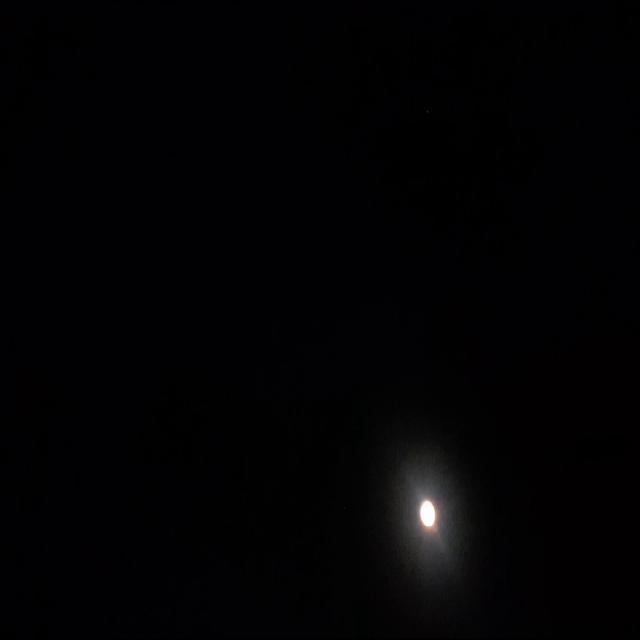moon: (413, 498, 436, 532)
